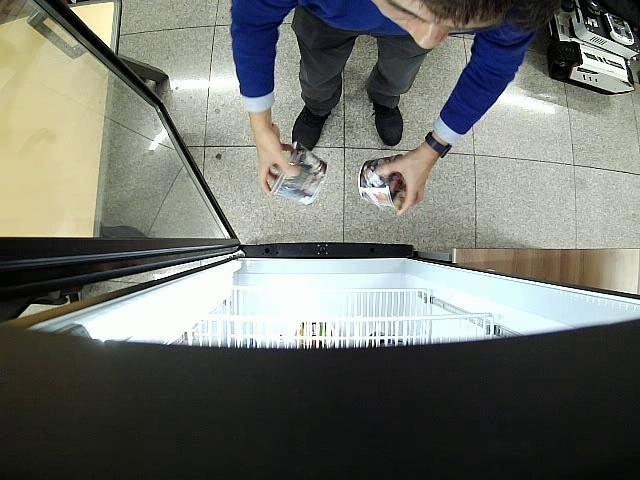07_buldak_L: (271, 140, 327, 204), (358, 154, 406, 210)
